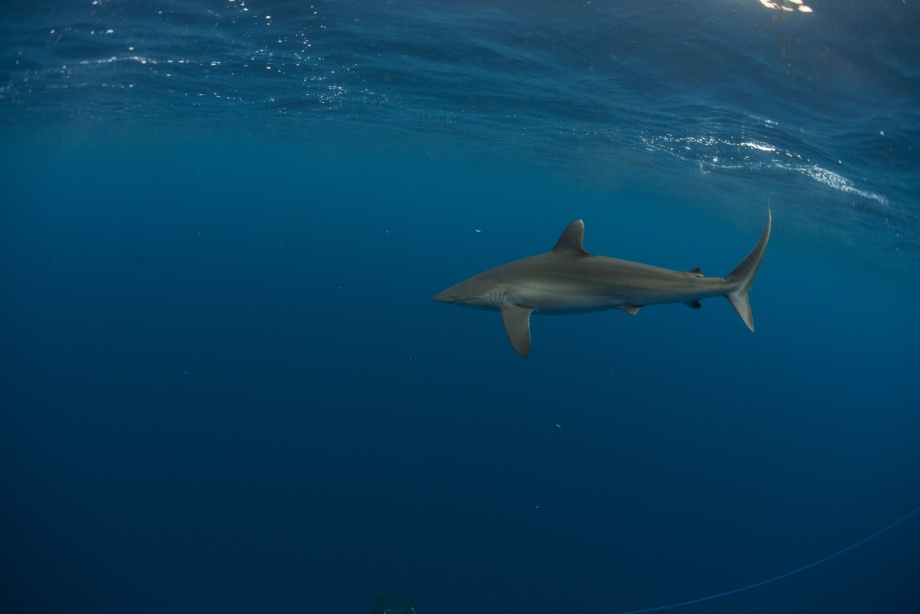Sedoso: (422, 189, 796, 369)
